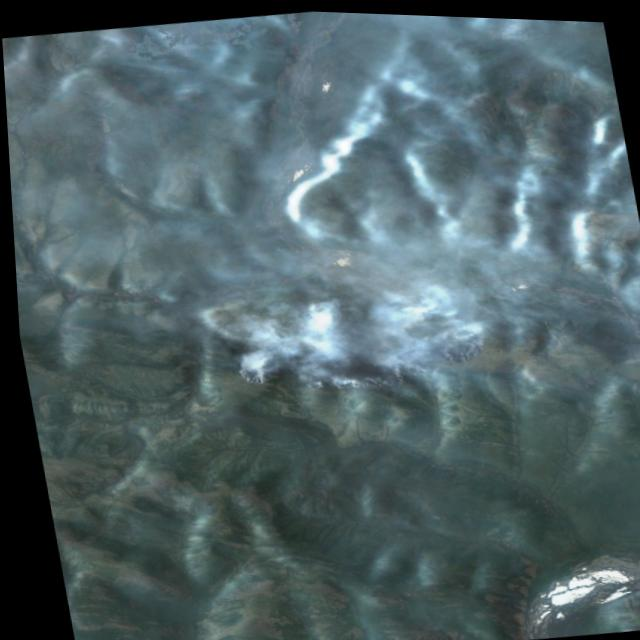fire: (211, 274, 515, 414)
